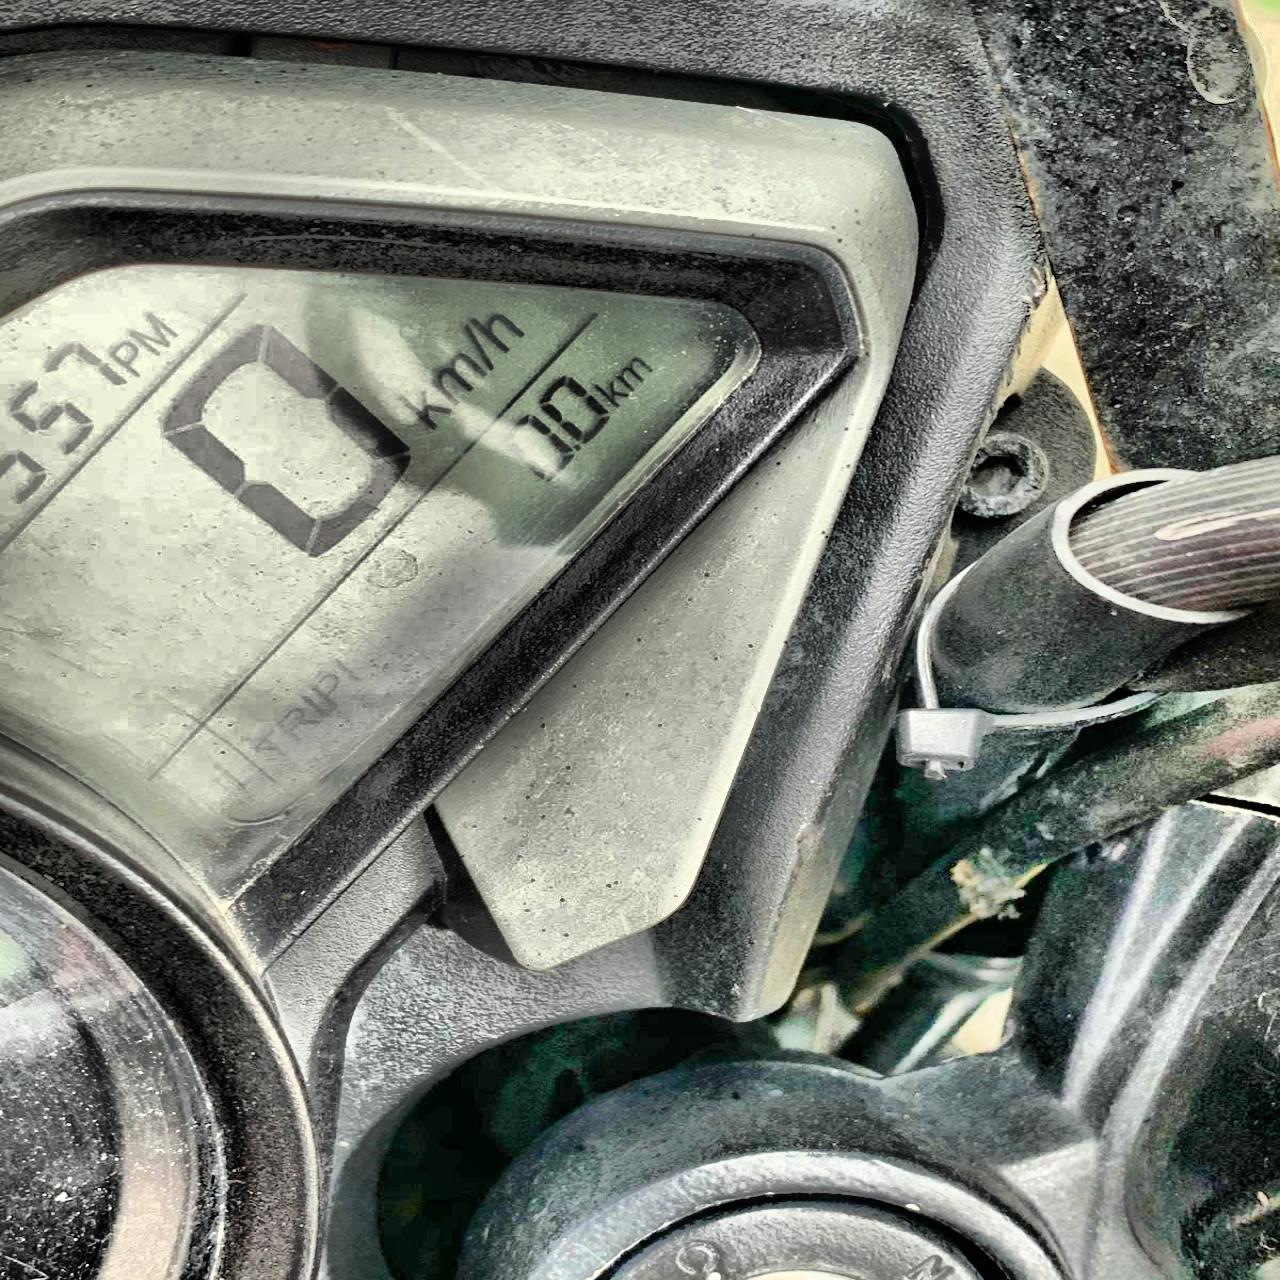-: (567, 438, 585, 454)
0: (162, 326, 411, 561), (493, 413, 576, 482), (535, 375, 613, 444)
5: (2, 375, 98, 455)
7: (42, 338, 128, 393)
X: (425, 353, 490, 400), (394, 384, 455, 430), (125, 307, 182, 354), (468, 309, 526, 349), (108, 341, 150, 377), (618, 355, 655, 389), (593, 379, 634, 407)
odometer: (7, 246, 792, 897)
